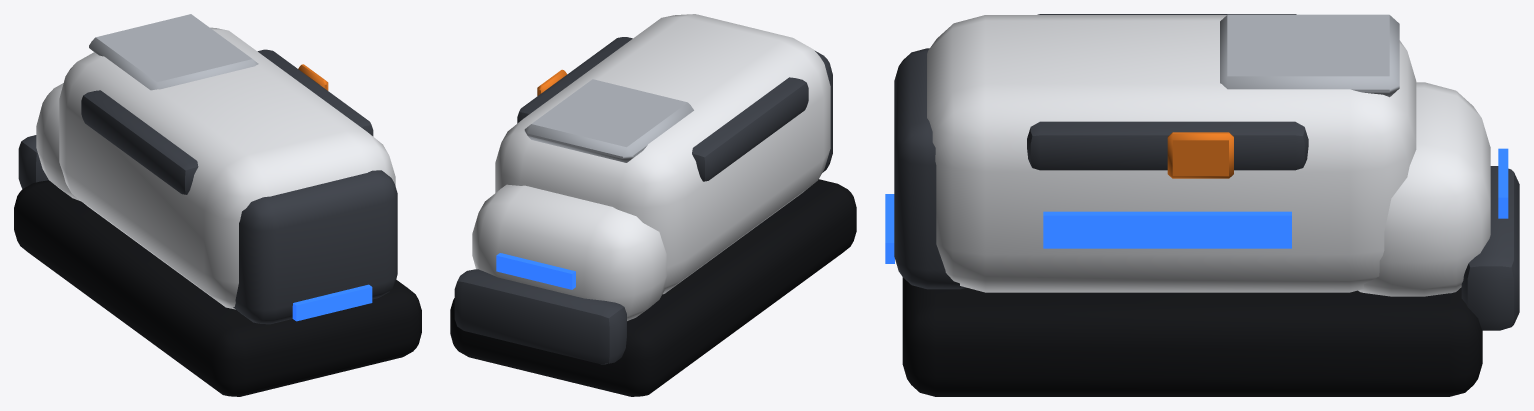
Rendered from boot_r.glb.
3 views of the same model, side by side, from view 1: azimuth 30°, elevation 25°; view 2: azimuth 150°, elevation 25°; view 3: azimuth 270°, elevation 25° (orthographic). The views are drawn at different scales.
Parts seen in each view (by area): view 1: BootR_Suit_White, BootR_Rubber, BootR_Metal_Dark, BootR_Suit_Grey, BootR_Strip_Blue; view 2: BootR_Suit_White, BootR_Rubber, BootR_Metal_Dark, BootR_Suit_Grey, BootR_Strip_Blue; view 3: BootR_Suit_White, BootR_Rubber, BootR_Metal_Dark, BootR_Suit_Grey, BootR_Strip_Blue, BootR_Suit_Orange.
Boxes of the visible parts, x1,y1,x2,y2 form: BootR_Suit_White: [36, 27, 395, 309]; BootR_Rubber: [14, 180, 421, 396]; BootR_Metal_Dark: [18, 49, 397, 324]; BootR_Suit_Grey: [89, 14, 258, 90]; BootR_Strip_Blue: [292, 284, 372, 321]; BootR_Suit_White: [472, 14, 830, 320]; BootR_Rubber: [450, 179, 856, 396]; BootR_Metal_Dark: [454, 37, 832, 364]; BootR_Suit_Grey: [524, 79, 693, 162]; BootR_Strip_Blue: [496, 253, 575, 289]; BootR_Suit_White: [927, 15, 1490, 296]; BootR_Rubber: [902, 277, 1482, 396]; BootR_Metal_Dark: [894, 14, 1519, 330]; BootR_Suit_Grey: [1220, 14, 1399, 97]; BootR_Strip_Blue: [885, 148, 1508, 263]; BootR_Suit_Orange: [1167, 132, 1233, 178].
Size of the model in its own units: 0.19 by 0.197 by 0.383.
